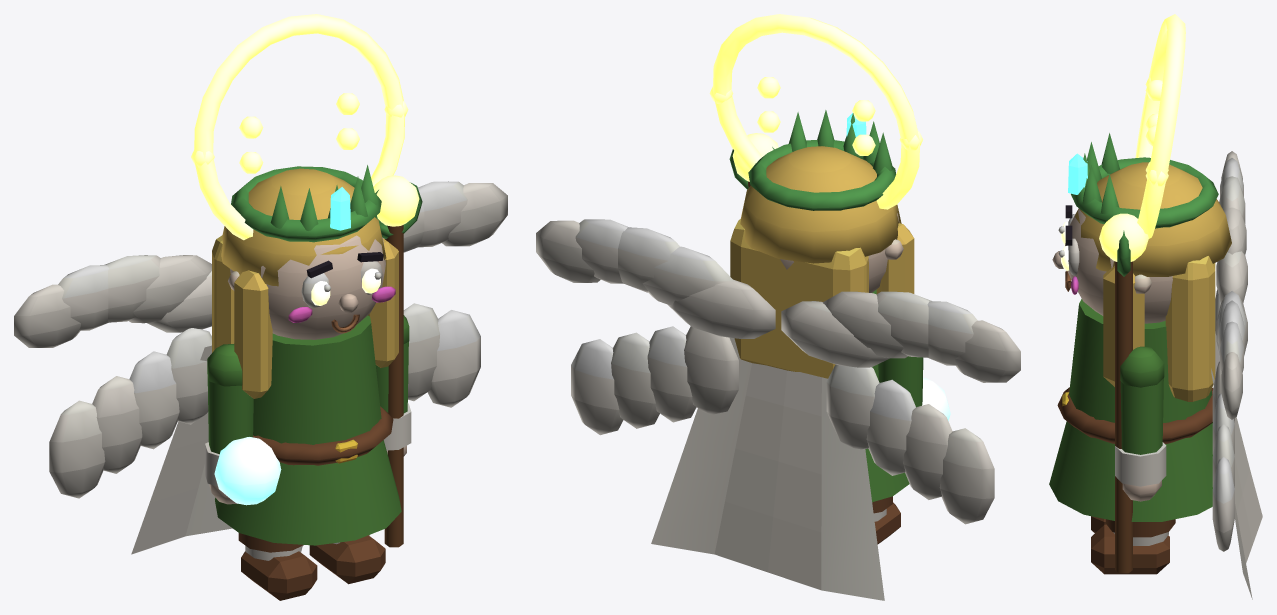
Rendered from hero_vitalia.glb.
3 views of the same model, side by side, from view 1: azimuth 30°, elevation 25°; view 2: azimuth 150°, elevation 25°; view 3: azimuth 270°, elevation 25° (orthographic). The views are drawn at different scales.
Parts seen in each view (by area): view 1: body_t0_palette, wingl_t0_palette, wingr_t0_palette, halo_t0_spinY40_bob1_glow_gold, armr_t0_palette, arml_t0_palette, legl_t0_palette, arml_t0_glow_teal, legr_t0_palette, armr_t0_glow_gold, body_t0_crystal, body_t0_eye_glow; view 2: body_t0_palette, wingl_t0_palette, wingr_t0_palette, halo_t0_spinY40_bob1_glow_gold, arml_t0_palette, legl_t0_palette, armr_t0_glow_gold, arml_t0_glow_teal; view 3: body_t0_palette, armr_t0_palette, wingr_t0_palette, halo_t0_spinY40_bob1_glow_gold, wingl_t0_palette, legr_t0_palette, armr_t0_glow_gold, body_t0_crystal.
Boxes of the visible parts, x1,y1,x2,y2 form: body_t0_palette: [131, 165, 401, 554]; wingl_t0_palette: [14, 255, 211, 498]; wingr_t0_palette: [383, 181, 507, 407]; halo_t0_spinY40_bob1_glow_gold: [191, 14, 408, 240]; armr_t0_palette: [375, 182, 422, 547]; arml_t0_palette: [205, 344, 253, 504]; legl_t0_palette: [238, 533, 317, 600]; arml_t0_glow_teal: [214, 437, 281, 505]; legr_t0_palette: [309, 535, 385, 584]; armr_t0_glow_gold: [373, 175, 419, 226]; body_t0_crystal: [330, 187, 350, 230]; body_t0_eye_glow: [311, 268, 380, 305]; body_t0_palette: [651, 110, 914, 600]; wingl_t0_palette: [781, 291, 1020, 524]; wingr_t0_palette: [536, 219, 775, 435]; halo_t0_spinY40_bob1_glow_gold: [709, 14, 922, 209]; arml_t0_palette: [878, 356, 923, 407]; legl_t0_palette: [872, 496, 900, 544]; armr_t0_glow_gold: [732, 133, 778, 181]; arml_t0_glow_teal: [922, 378, 950, 420]; body_t0_palette: [1049, 133, 1262, 599]; armr_t0_palette: [1115, 230, 1166, 573]; wingr_t0_palette: [1212, 291, 1247, 551]; halo_t0_spinY40_bob1_glow_gold: [1135, 14, 1185, 238]; wingl_t0_palette: [1215, 151, 1247, 334]; legr_t0_palette: [1091, 519, 1175, 574]; armr_t0_glow_gold: [1099, 213, 1148, 261]; body_t0_crystal: [1068, 153, 1087, 194].
Size of the model in its own units: 0.6635 by 0.6998 by 0.257.
